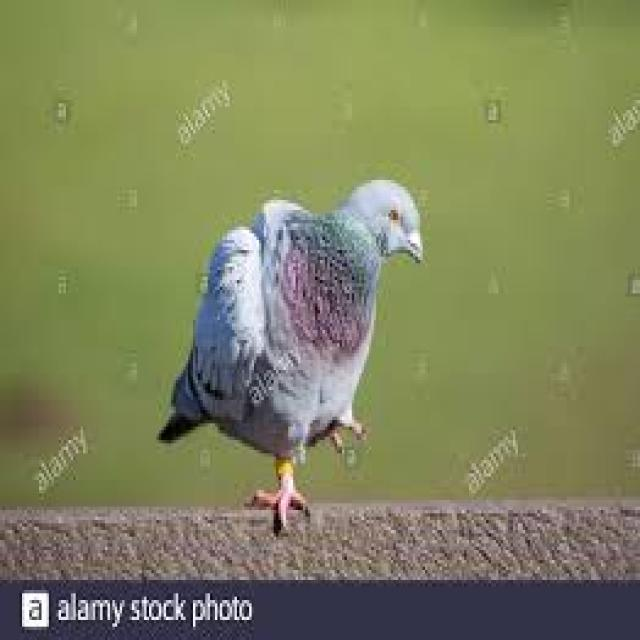pigeon: (174, 164, 416, 528)
